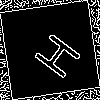H: (25, 25, 83, 82)
